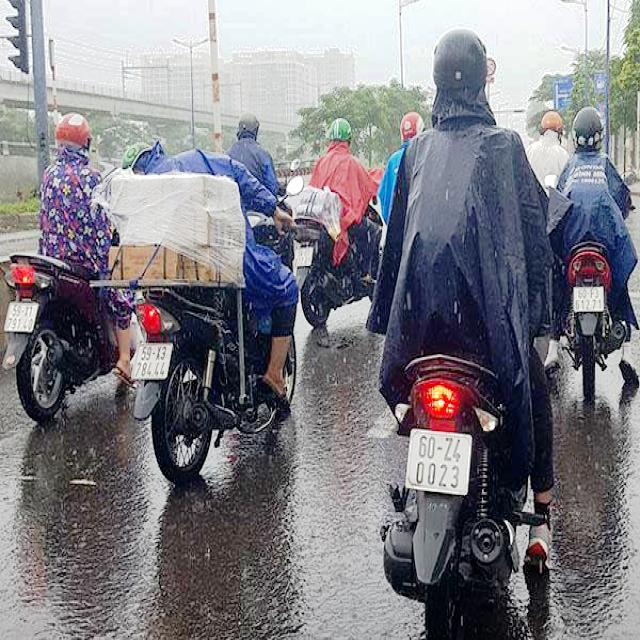license_plate: (409, 431, 472, 493), (133, 343, 174, 380), (4, 303, 40, 332), (575, 287, 605, 313)
